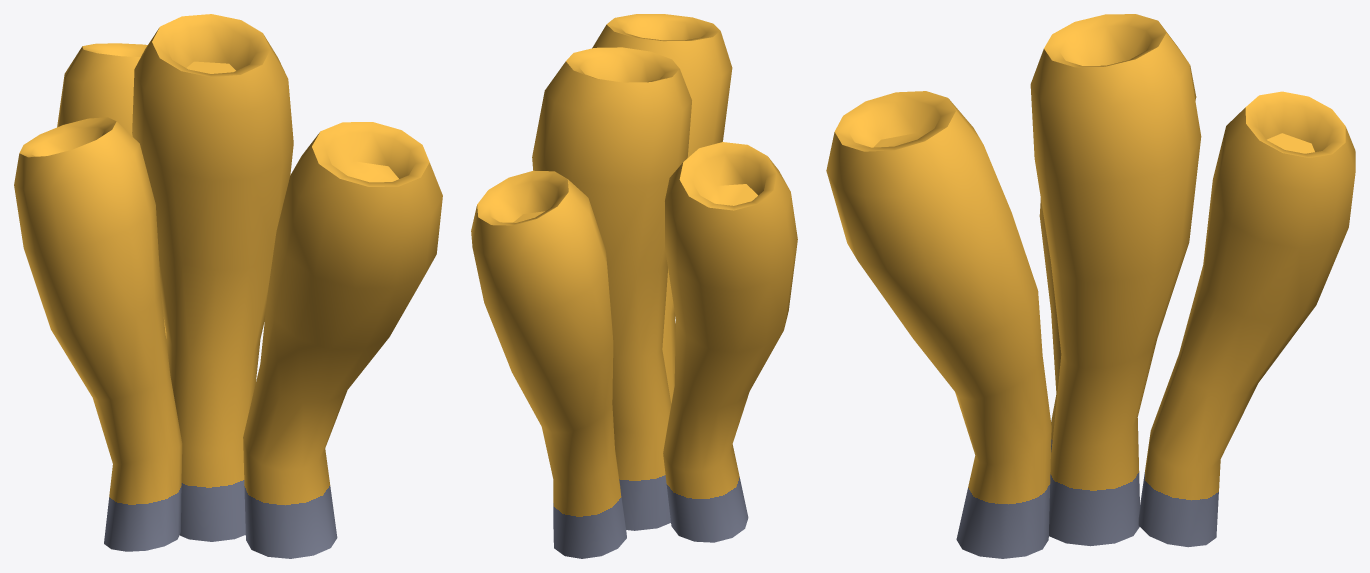
The model's file is D_CoralReef.054.glb.
3 views of the same model, side by side, from view 1: azimuth 30°, elevation 25°; view 2: azimuth 150°, elevation 25°; view 3: azimuth 270°, elevation 25° (orthographic). The views are drawn at different scales.
Visible parts, largest first — view 1: D_CoralReef.054; view 2: D_CoralReef.054; view 3: D_CoralReef.054.
Boxes of the visible parts, left/top/right/bottom form: D_CoralReef.054: left=14, top=14, right=442, bottom=558; D_CoralReef.054: left=471, top=14, right=797, bottom=558; D_CoralReef.054: left=826, top=14, right=1355, bottom=558.
Size of the model in its own units: 0.144 by 0.2148 by 0.2055.
Materials: 1 (1 with a texture image).
